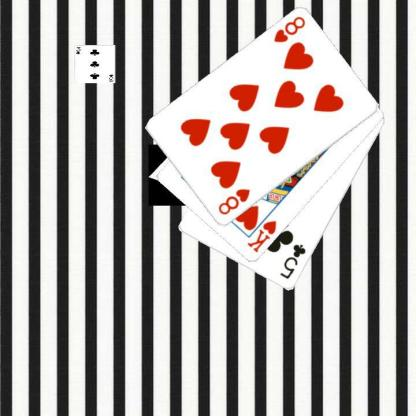5C: (278, 241, 308, 281)
8H: (215, 186, 252, 217), (271, 14, 307, 44)
KH: (244, 218, 278, 254)
